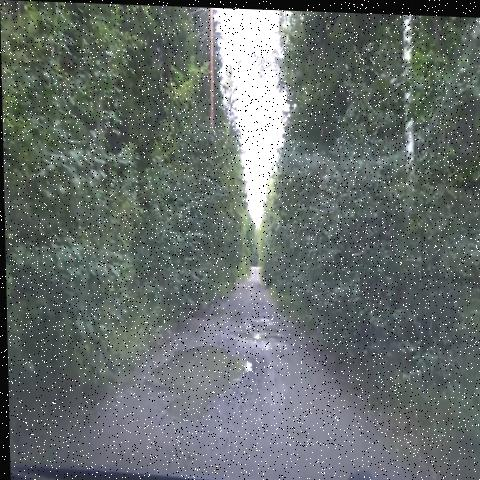pothole: (140, 335, 255, 429), (228, 322, 290, 348), (199, 290, 229, 328), (255, 314, 281, 332)
